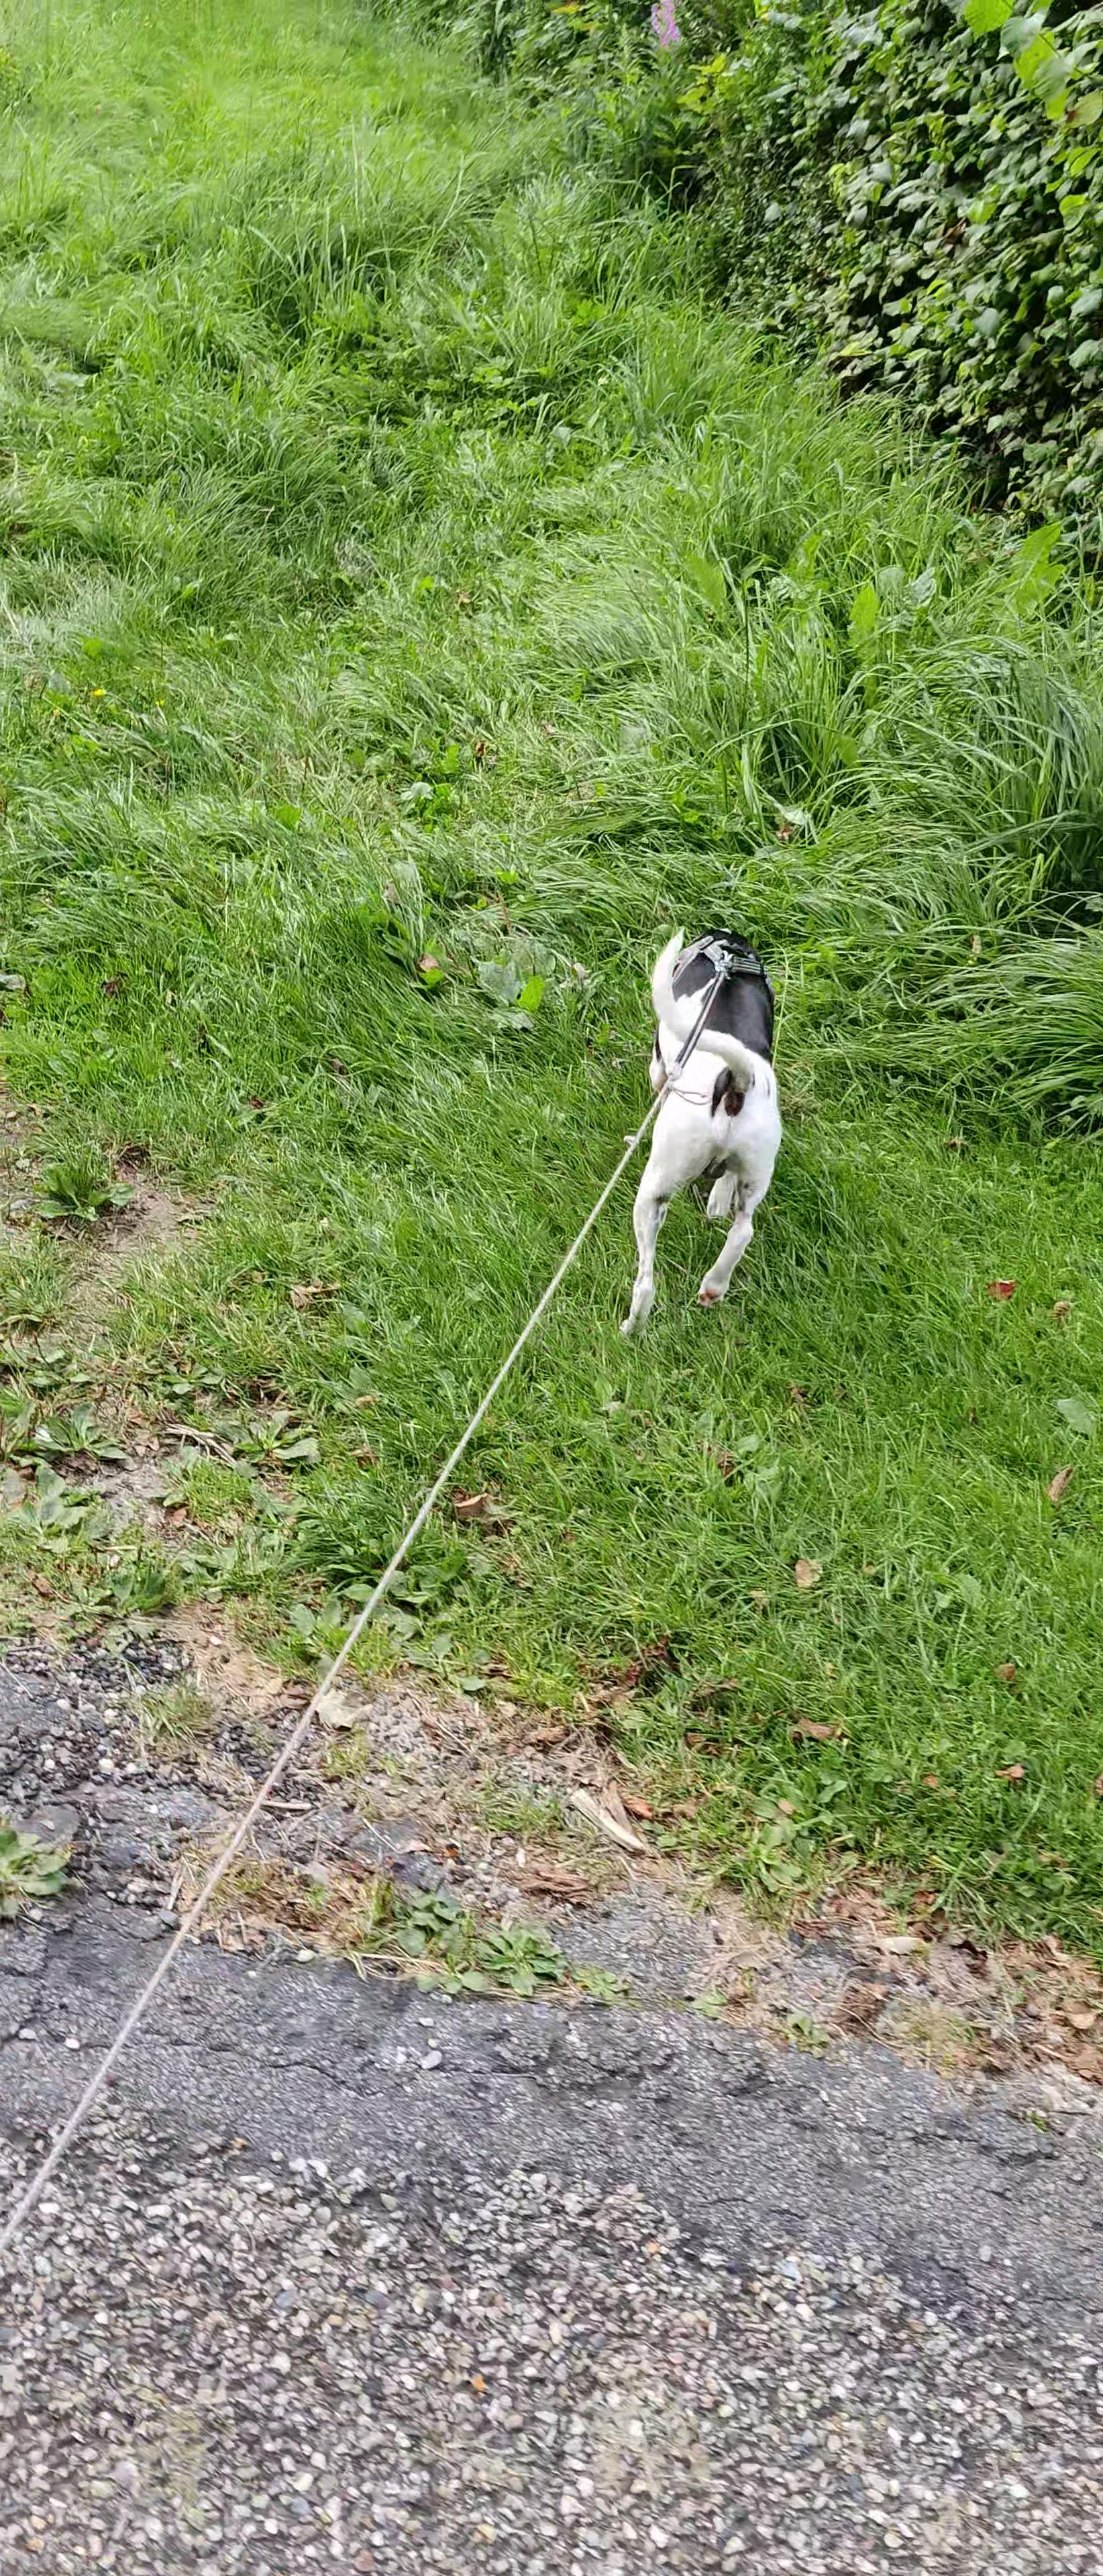Dog: (603, 889, 796, 1341)
